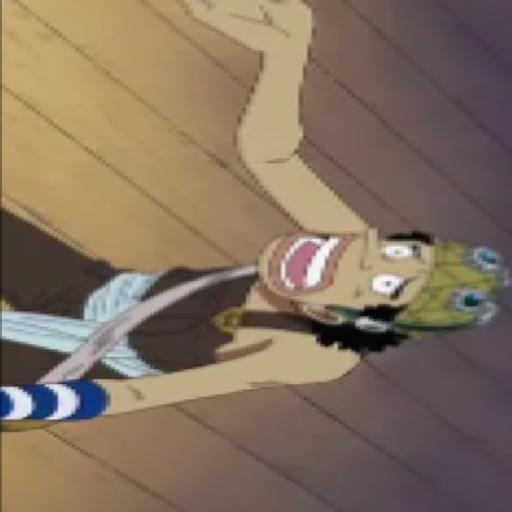Usopp: (3, 0, 506, 433)
